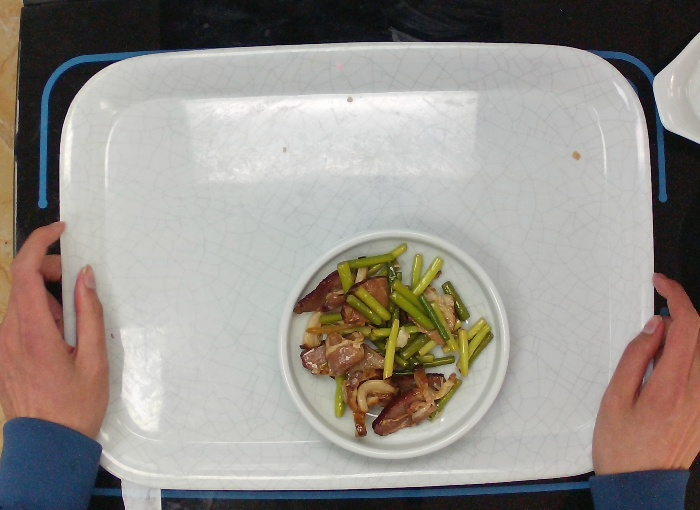JYsf-Xiao_Yuan_Pan: (268, 223, 517, 467)
